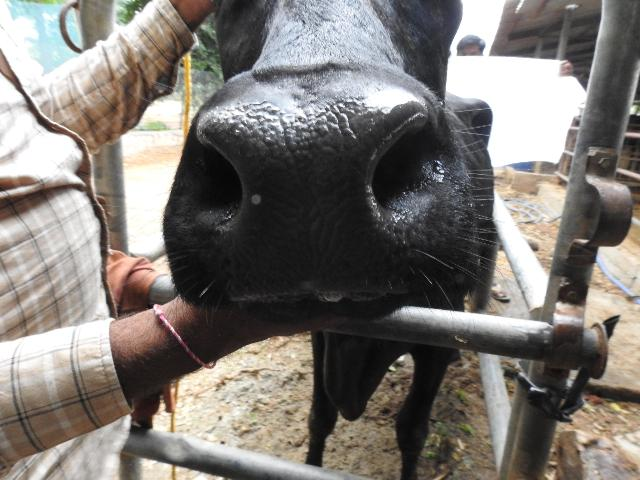Muzzle: (200, 114, 406, 288)
